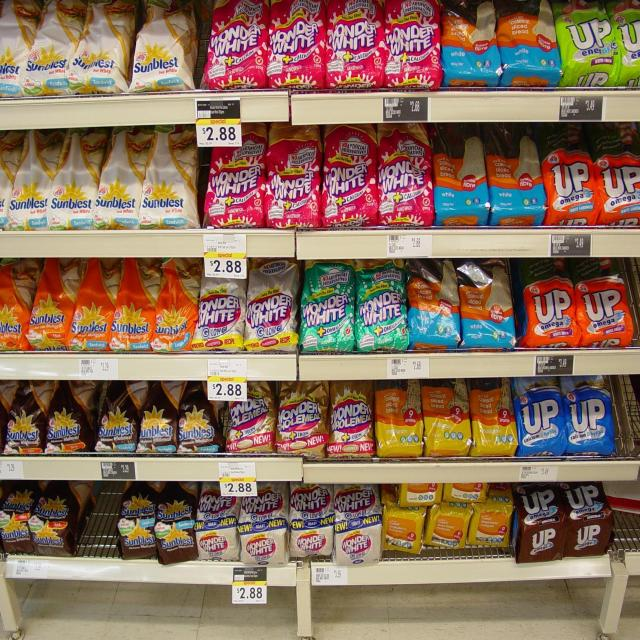empty_space: (88, 484, 114, 553)
